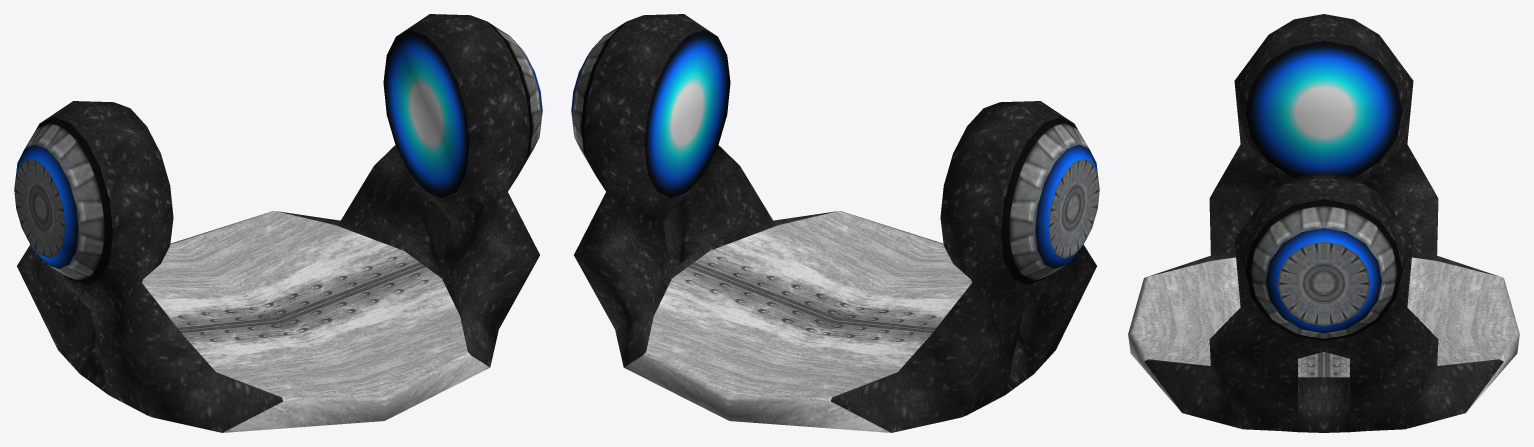
File: frameSmall.obj
The picture shows the model from 3 angles, left to right: view 1: azimuth 30°, elevation 25°; view 2: azimuth 150°, elevation 25°; view 3: azimuth 270°, elevation 25°; orthographic projection. The views are drawn at different scales.
Visible parts, largest first — view 1: frameS_Cylinder.001_Cylinder.002; view 2: frameS_Cylinder.001_Cylinder.002; view 3: frameS_Cylinder.001_Cylinder.002.
Part boxes in pixels (box(x1,y1,x2,y2)): frameS_Cylinder.001_Cylinder.002: box(14, 14, 542, 432); frameS_Cylinder.001_Cylinder.002: box(571, 14, 1099, 432); frameS_Cylinder.001_Cylinder.002: box(1128, 14, 1519, 432).
Bounding box in the file's own units: 0.4896 × 0.2735 × 0.3822.
Materials: 1 (1 with a texture image).
